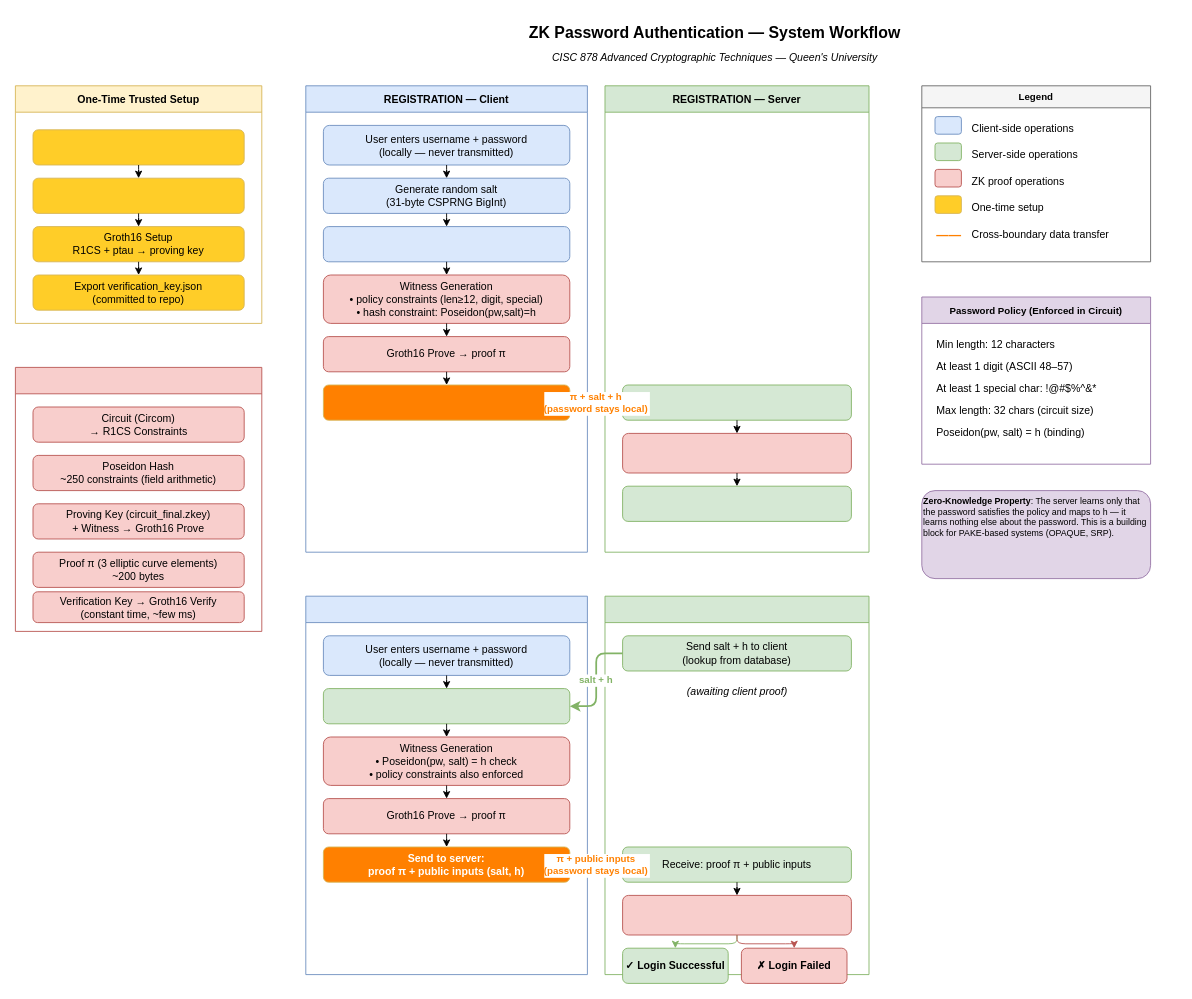
The diagram is 1192 pixels wide and 999 high, and some of its shapes have lost their labels. The box of each missing label's shape, as (x1, y1, x2, y2) in pixels:
AUTHENTICATION — Client: (305, 595, 587, 975)
AUTHENTICATION — Server: (604, 595, 869, 975)
Circuit Compilation circom → R1CS + WASM: (32, 177, 244, 213)
Compute h = Poseidon(pw, salt) (outside circuit, for public input): (323, 226, 570, 262)
Groth16 Verify verification_key + π + (salt, h): (622, 895, 851, 935)
Groth16 Verify verification_key.json + π + (salt, h): (622, 433, 851, 473)
Powers of Tau Ceremony (bn128 14): (32, 129, 244, 165)
Receive from server: salt + h for username: (323, 688, 570, 724)
Receive: proof π + salt + h: (622, 384, 851, 420)
Send to server: proof π + salt + h: (323, 384, 570, 420)
Store in database: (username, salt, h): (622, 485, 851, 521)
ZK Proof Components (Groth16): (15, 367, 262, 631)
